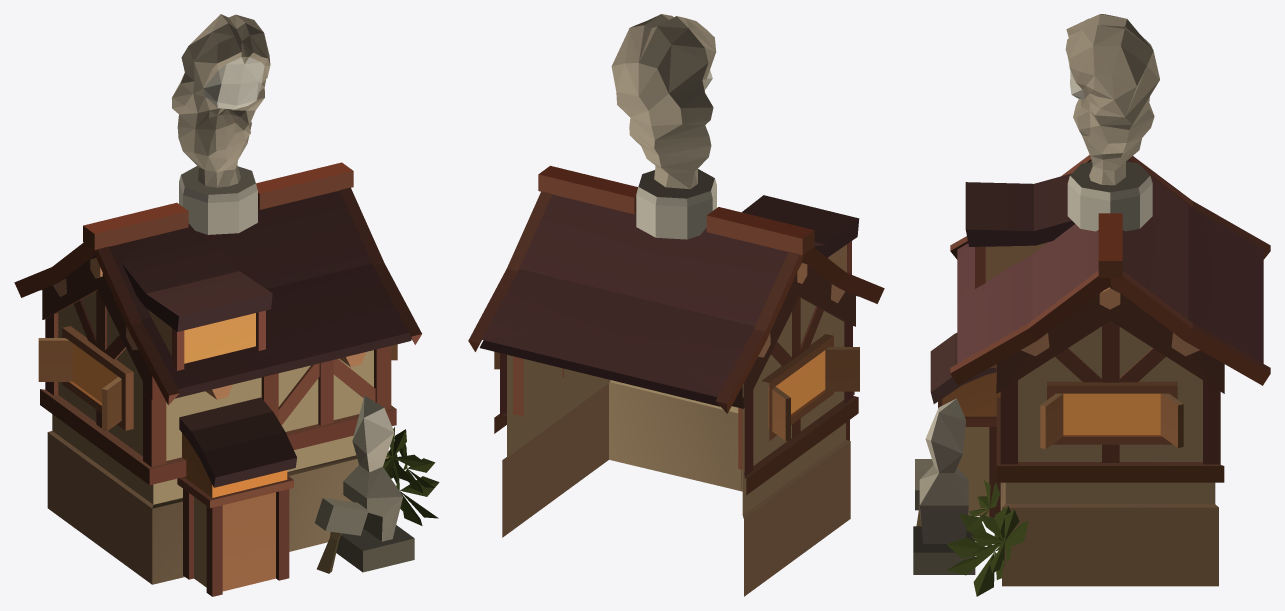
The model's file is building07.fbx.
The picture shows the model from 3 angles, left to right: view 1: azimuth 30°, elevation 25°; view 2: azimuth 150°, elevation 25°; view 3: azimuth 270°, elevation 25°; orthographic projection. The views are drawn at different scales.
Visible parts, largest first — view 1: building07; view 2: building07; view 3: building07.
Boxes of the visible parts, <box> form: building07: <box>14,14,439,596</box>; building07: <box>468,14,884,596</box>; building07: <box>913,14,1270,596</box>.
Bounding box in the file's own units: 1.75 × 2.62 × 1.65.
1 material, 1 textured.
